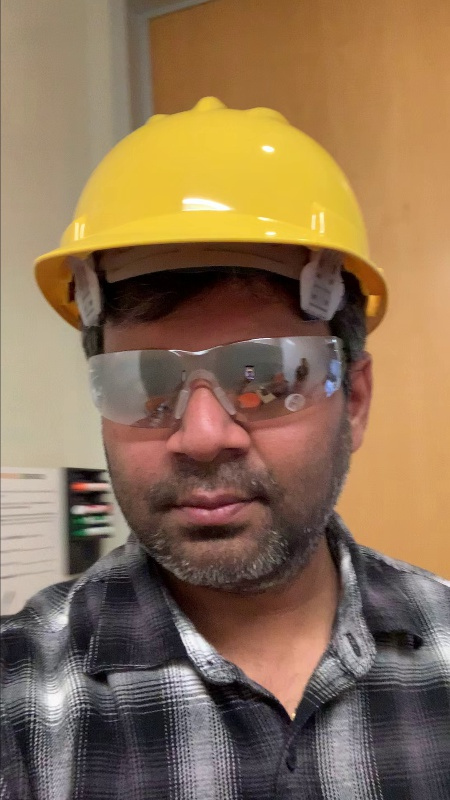glasses: (91, 339, 343, 420)
helmet: (47, 94, 370, 261)
